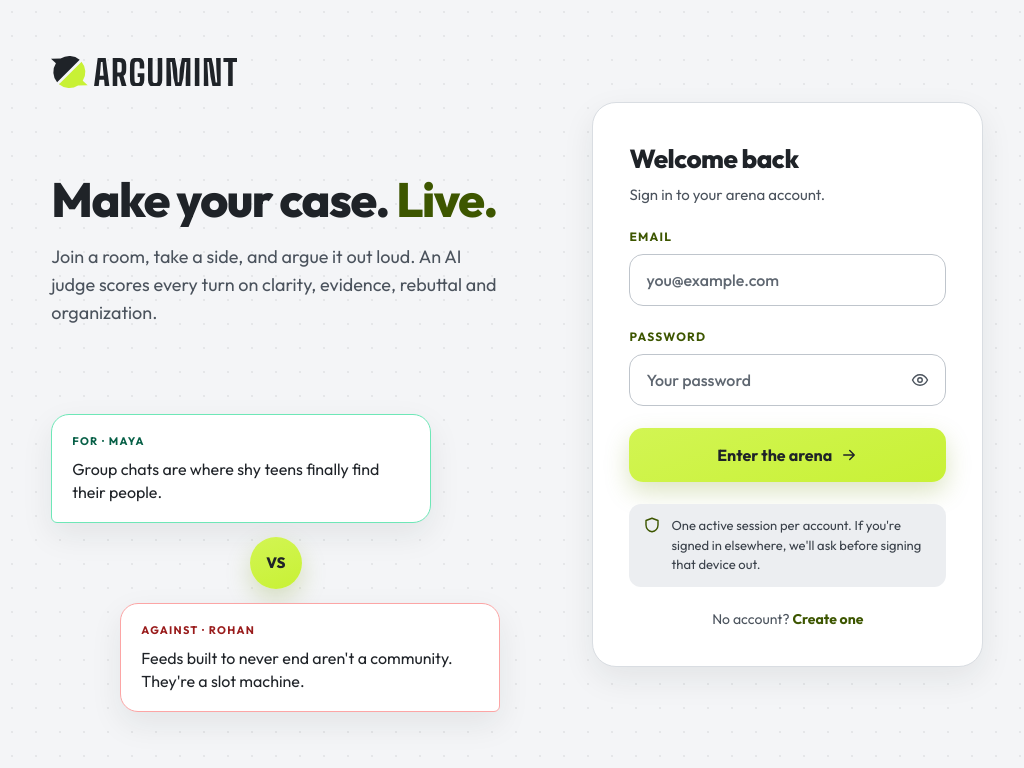
it: Login › form validation › shows 'Password is required' when password is blank
Type "alice@example.com" into the field with placeholder "you@example.com". click: (788, 280)
box: [630,254,946,306]
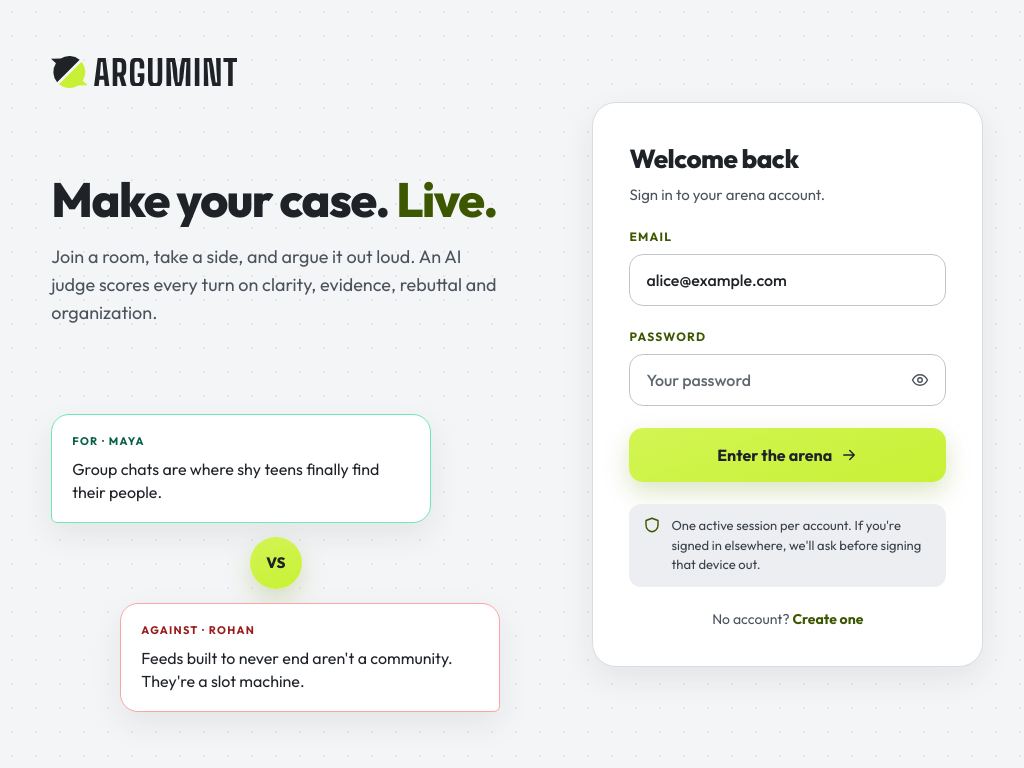
Click the button "Enter the arena". click: (788, 455)
box: [630,428,946,482]
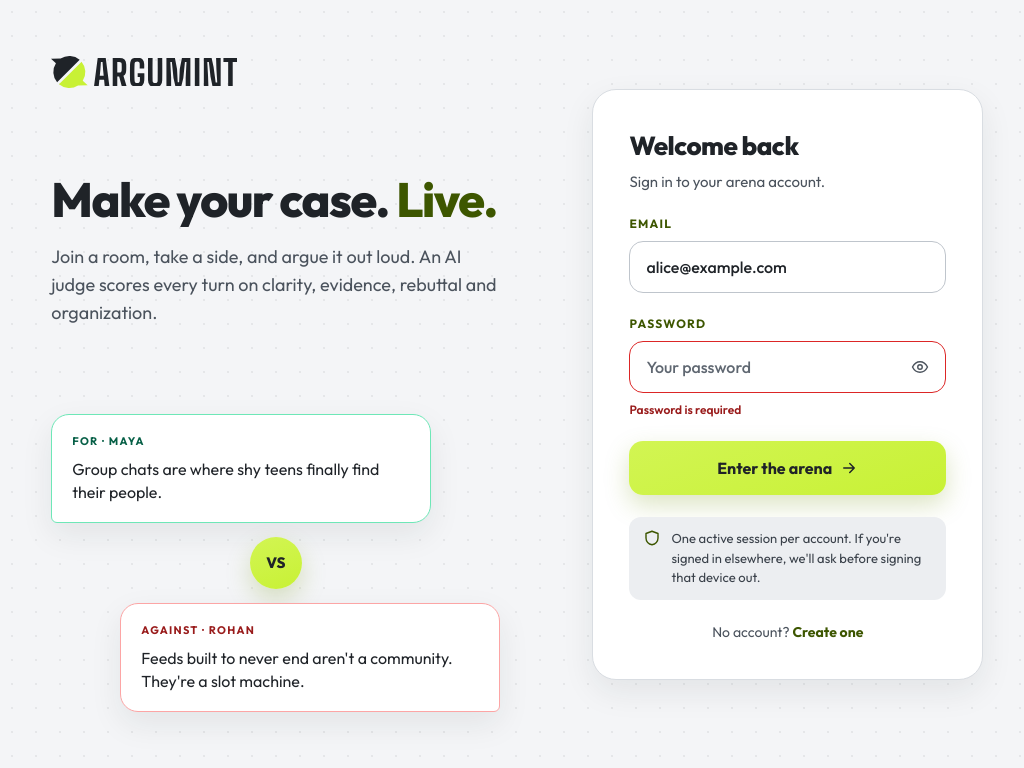
Now the text "Password is required" is shown, box [630,402,741,417]
